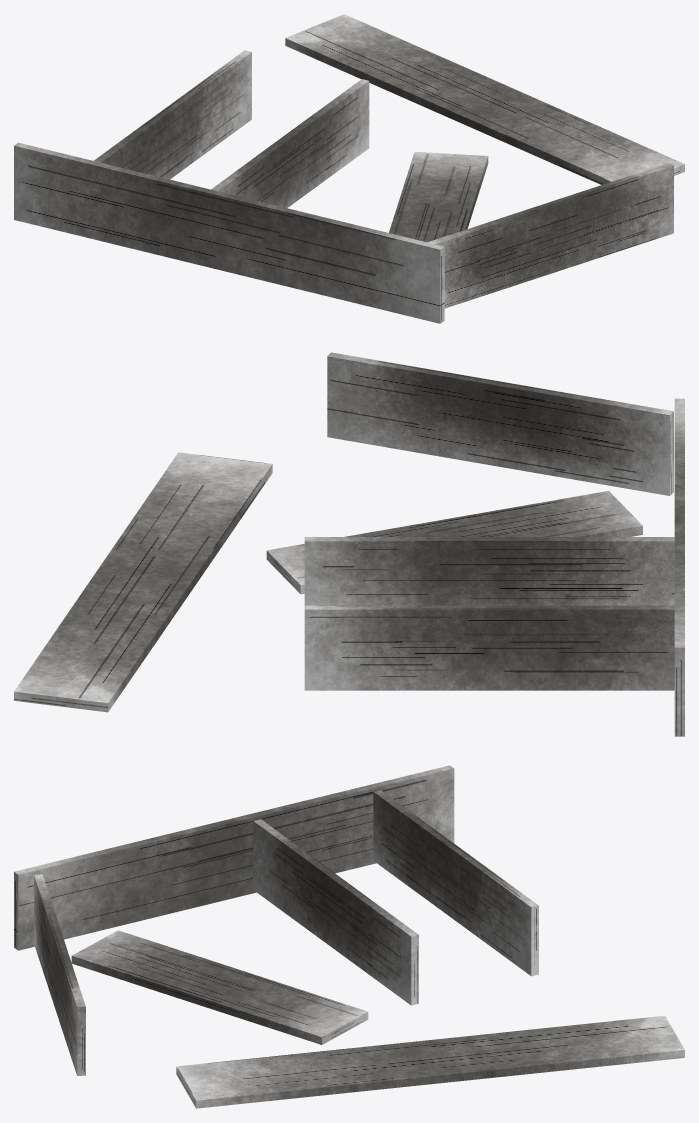
The model's file is Broken Bookshelve.fbx.
3 views of the same model, one above another, from view 1: azimuth 30°, elevation 25°; view 2: azimuth 150°, elevation 25°; view 3: azimuth 270°, elevation 25° (orthographic). The views are drawn at different scales.
Visible parts, largest first — view 1: Broken_BookShelve_Base; view 2: Broken_BookShelve_Base; view 3: Broken_BookShelve_Base.
Boxes of the visible parts, box(x1,y1,x2,y2) form: Broken_BookShelve_Base: box(14, 14, 684, 323); Broken_BookShelve_Base: box(14, 352, 684, 736); Broken_BookShelve_Base: box(14, 765, 684, 1108).
Bounding box in the file's own units: 1144 × 148 × 1189.
